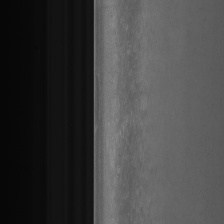silk_spot: (114, 23, 144, 202)
